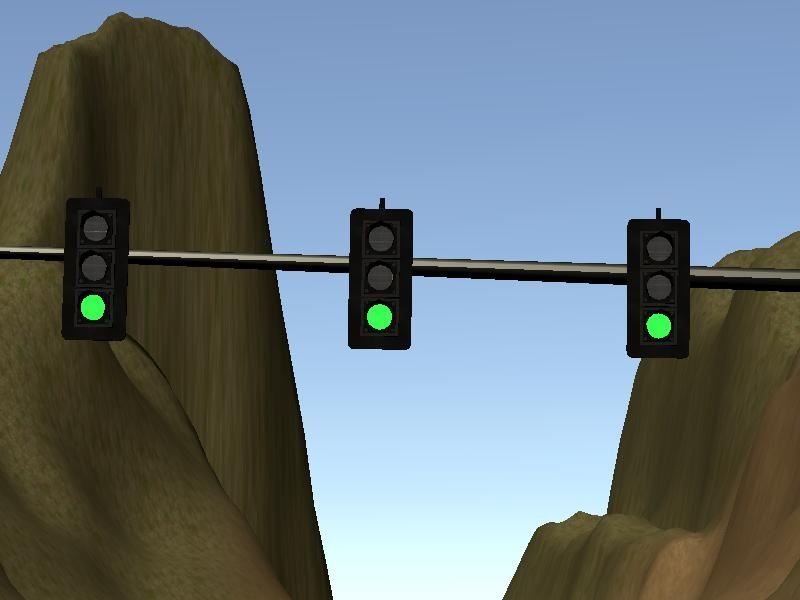green: (334, 195, 420, 359), (622, 202, 700, 369), (55, 193, 133, 341)
